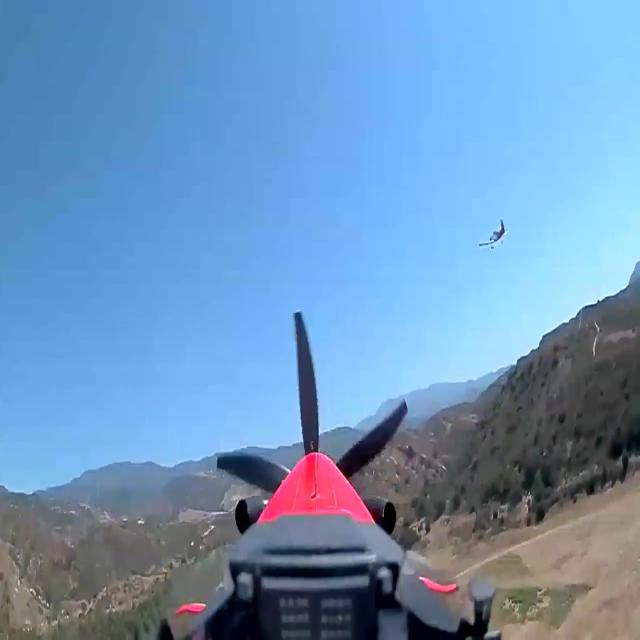iha: (478, 215, 509, 251)
